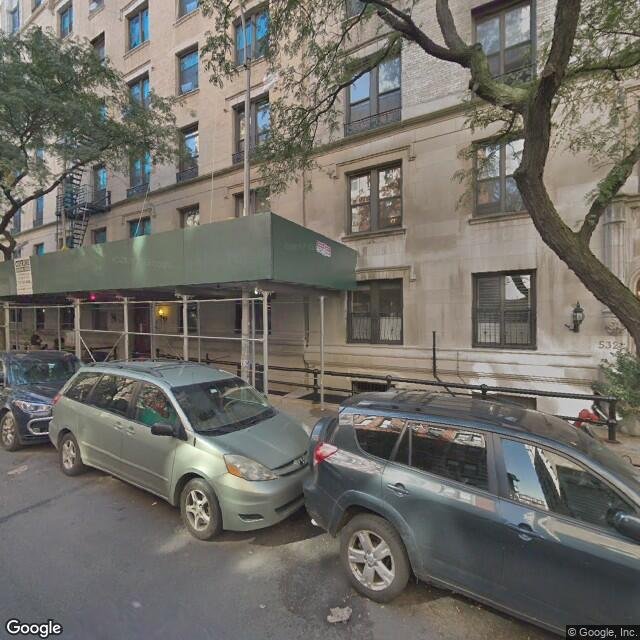window: (472, 273, 534, 347), (346, 59, 401, 127), (350, 283, 403, 343), (348, 169, 401, 228), (177, 52, 197, 93), (125, 13, 149, 47), (177, 129, 196, 171)
